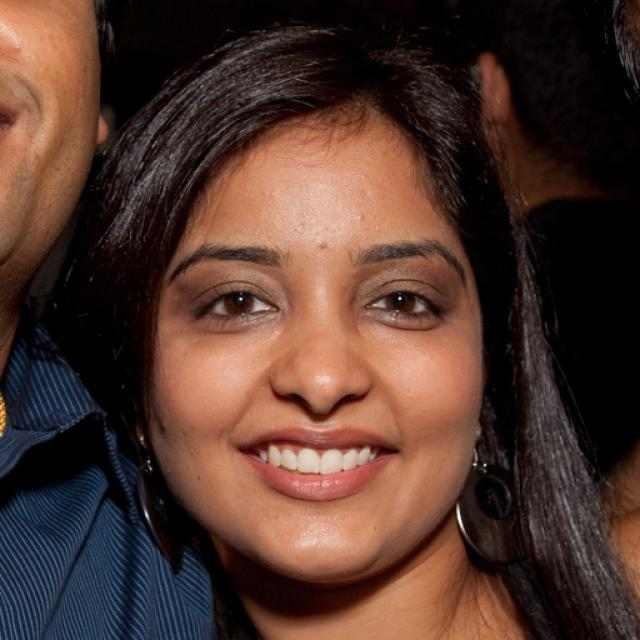Acne: (311, 237, 332, 258), (352, 207, 368, 225), (156, 418, 171, 437)
